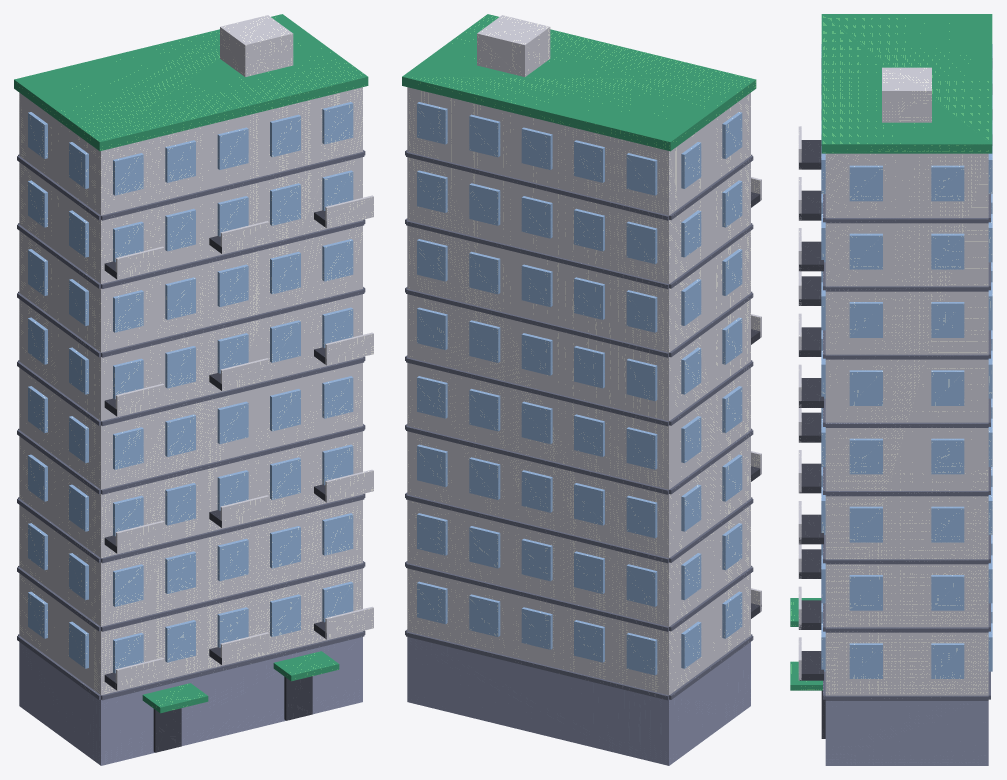
The model's file is panel-b.glb.
3 renders of one model, left to right at view 1: azimuth 30°, elevation 25°; view 2: azimuth 150°, elevation 25°; view 3: azimuth 270°, elevation 25°, orthographic.
Parts seen in each view (by area): view 1: panel-b; view 2: panel-b; view 3: panel-b.
Part boxes in pixels (x1=…): panel-b: x1=14, y1=14, x2=373, y2=765; panel-b: x1=402, y1=14, x2=761, y2=765; panel-b: x1=790, y1=14, x2=992, y2=765.
Bounding box in the file's own units: 1.23 × 2.88 × 0.806.
1 material, 1 textured.
